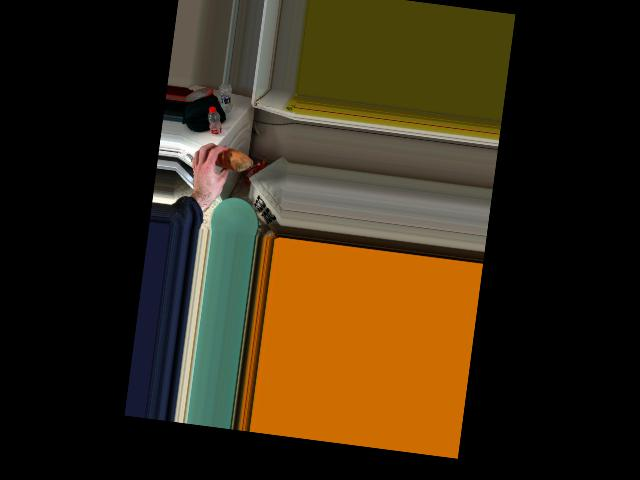sweet_potato: (207, 147, 243, 176)
